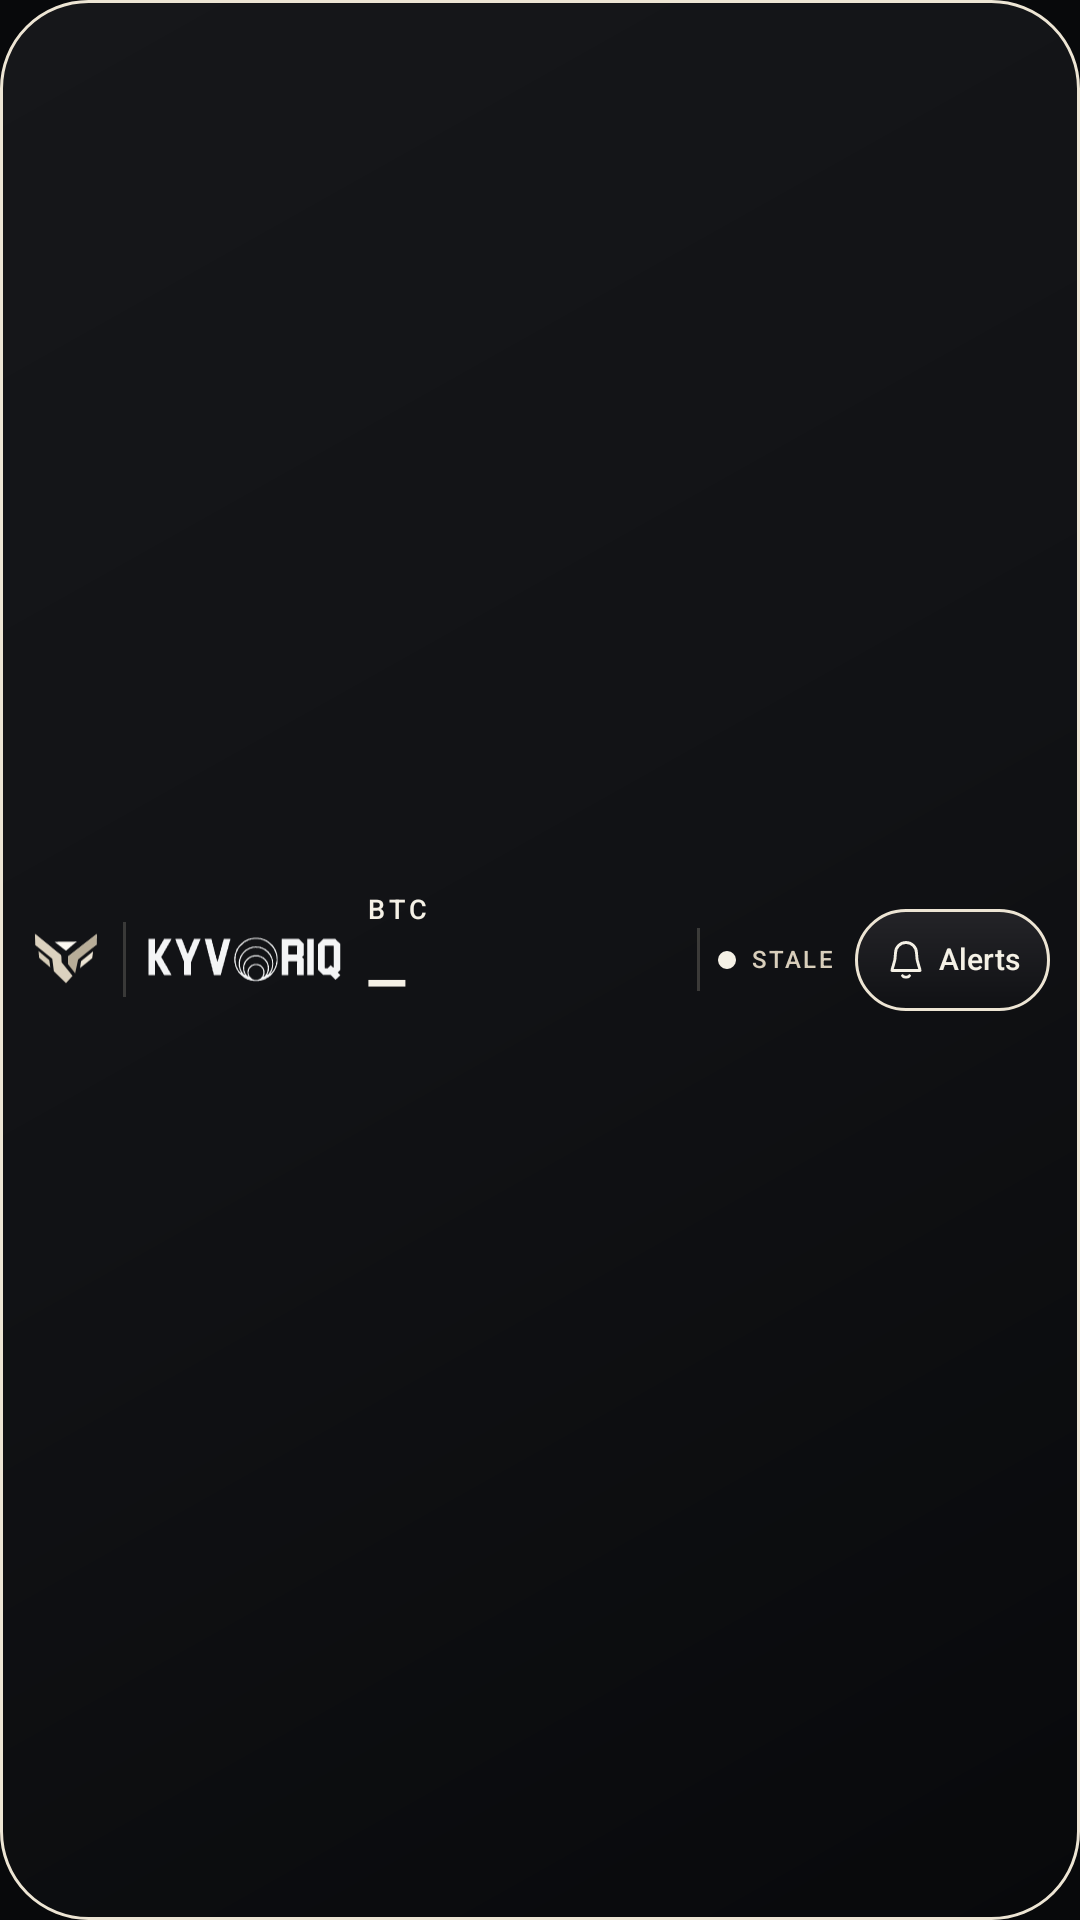

Icons on this 1080w x 1920h Android screen, each with its box as (x1, y1, x2, y2):
widget bell ivory: (890, 941, 922, 979)
